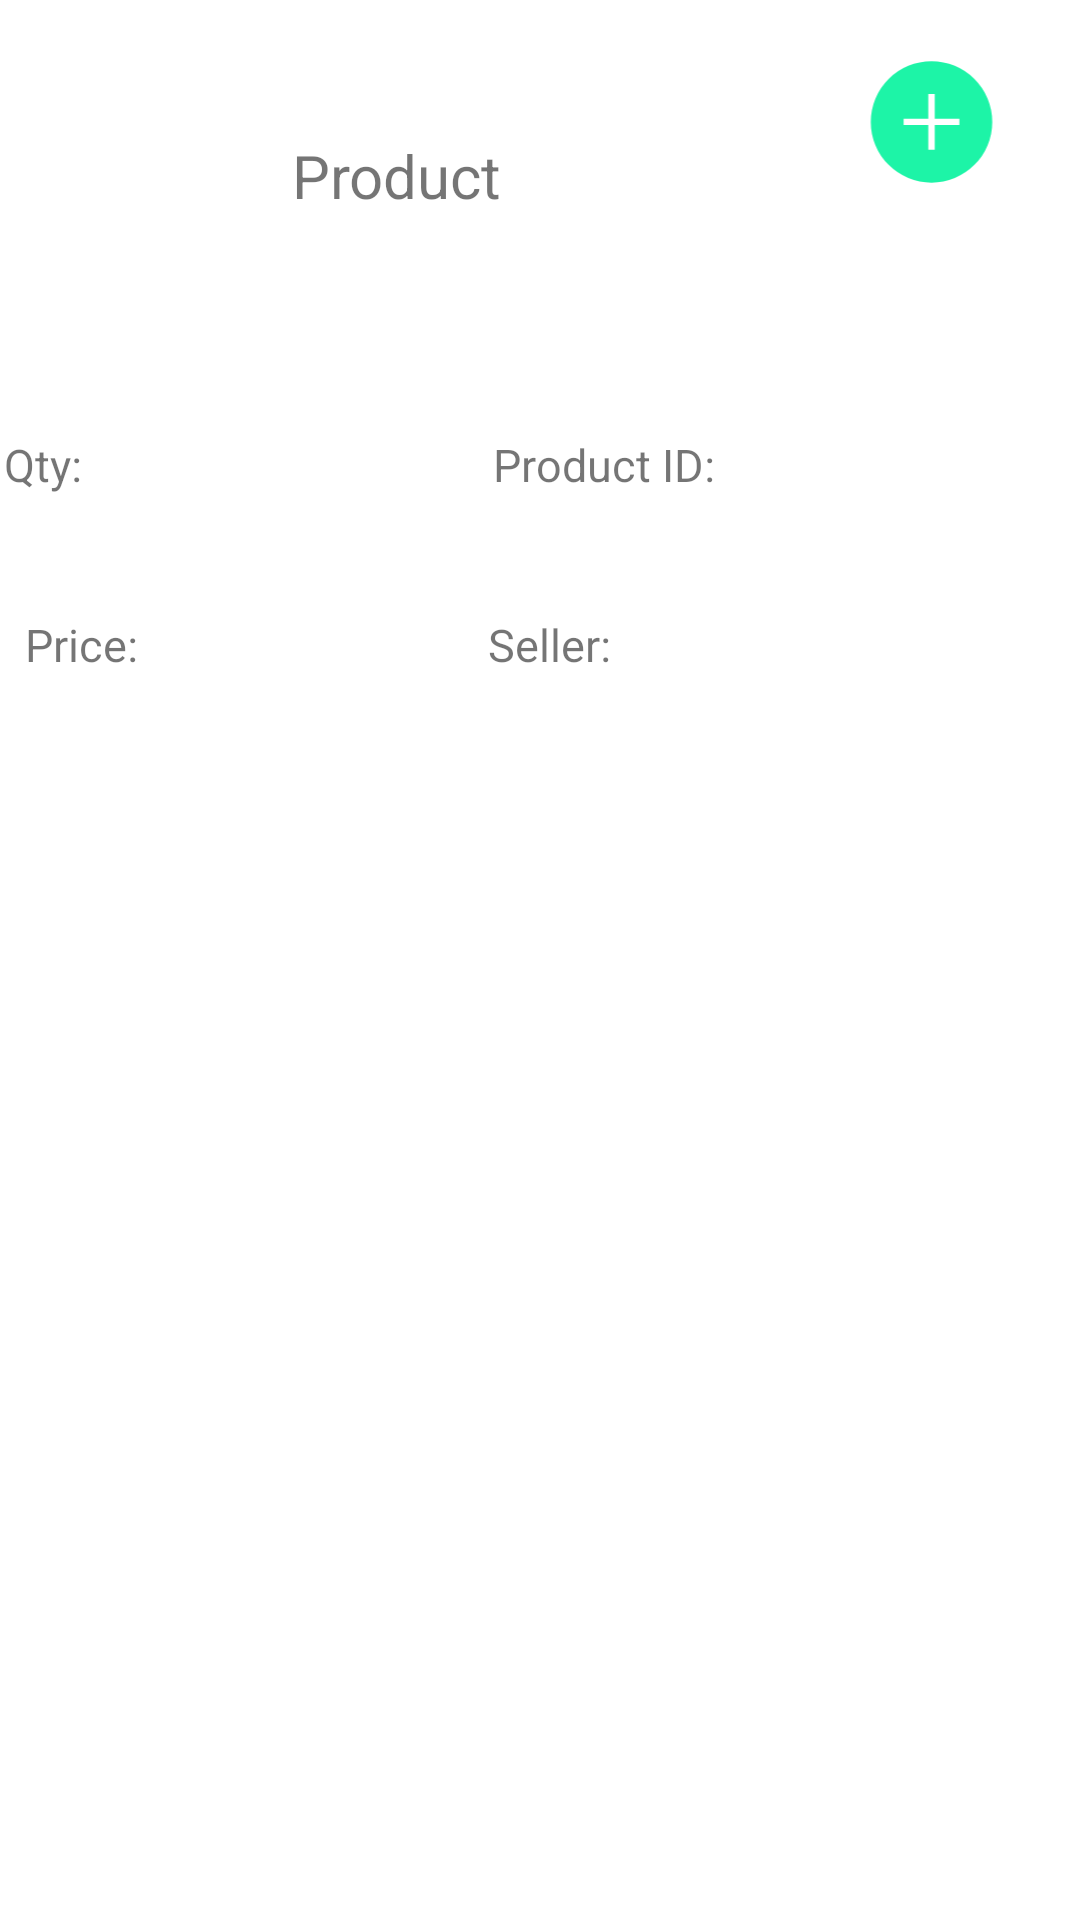

Icon click points for this 1080px×1920px phone screenshot, format point (x, y):
plus: point (931, 122)
